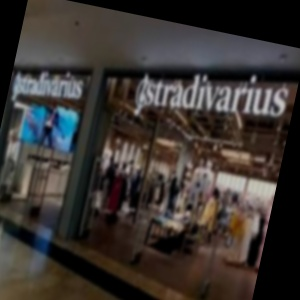stradivarius: (14, 67, 290, 147), (42, 70, 128, 147)
